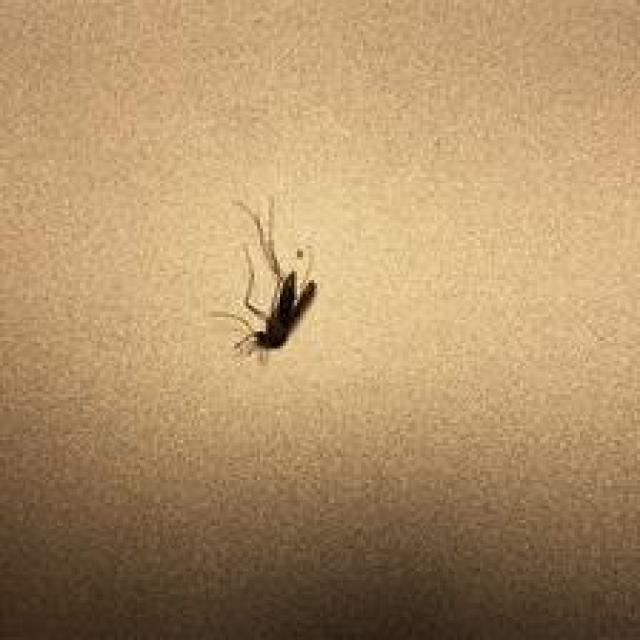Culex: (209, 194, 320, 366)
